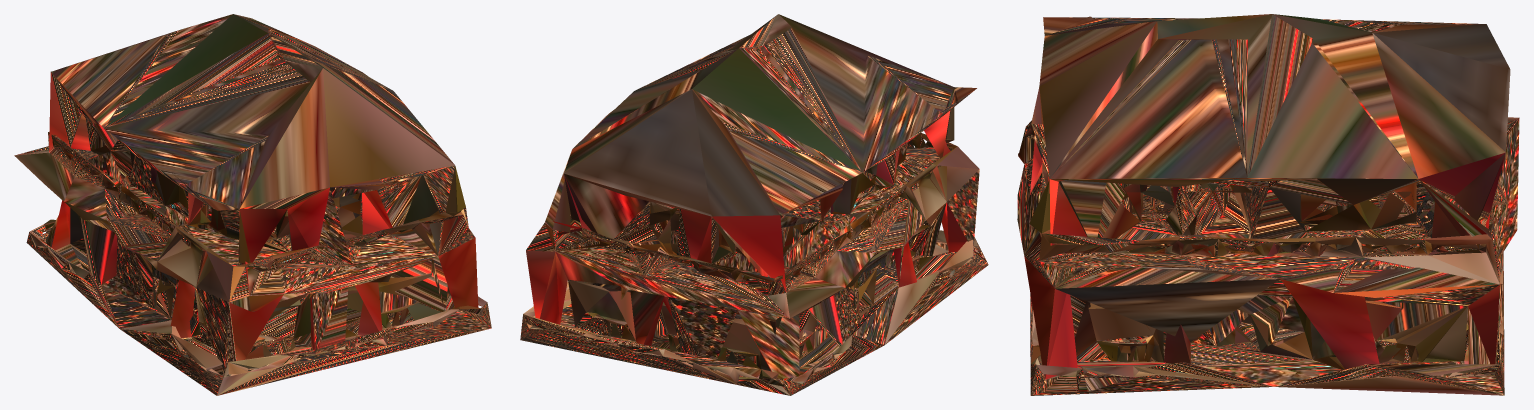
File: o04_far.glb
3 views of the same model, side by side, from view 1: azimuth 30°, elevation 25°; view 2: azimuth 150°, elevation 25°; view 3: azimuth 270°, elevation 25° (orthographic). The views are drawn at different scales.
Parts seen in each view (by area): view 1: o04_far; view 2: o04_far; view 3: o04_far.
Part boxes in pixels (<box>): o04_far: <box>14,14,491,395</box>; o04_far: <box>520,14,988,395</box>; o04_far: <box>1017,14,1519,395</box>.
Bounding box in the file's own units: 23.1 × 20 × 28.66.
1 material, 1 textured.
